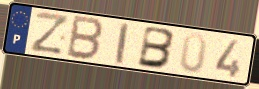0: (178, 32, 210, 75)
4: (214, 38, 243, 78)
B: (64, 13, 106, 62), (136, 24, 178, 70)
I: (115, 21, 131, 66)
Z: (29, 10, 70, 56)
